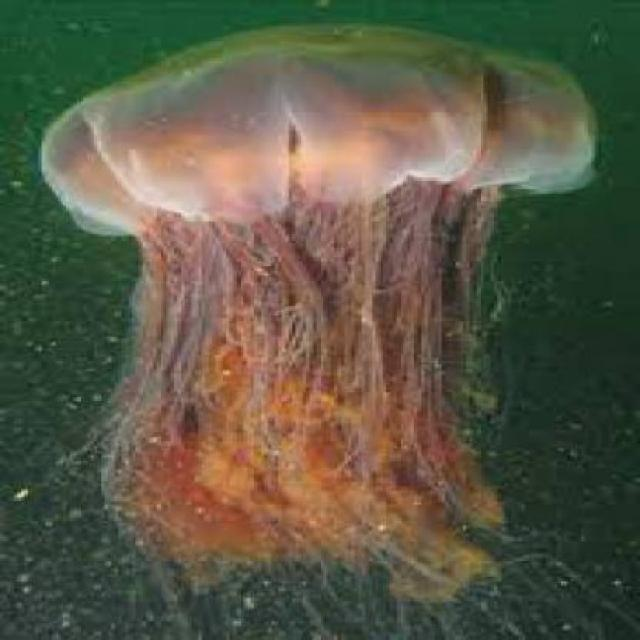Jellyfish: (28, 17, 602, 606)
